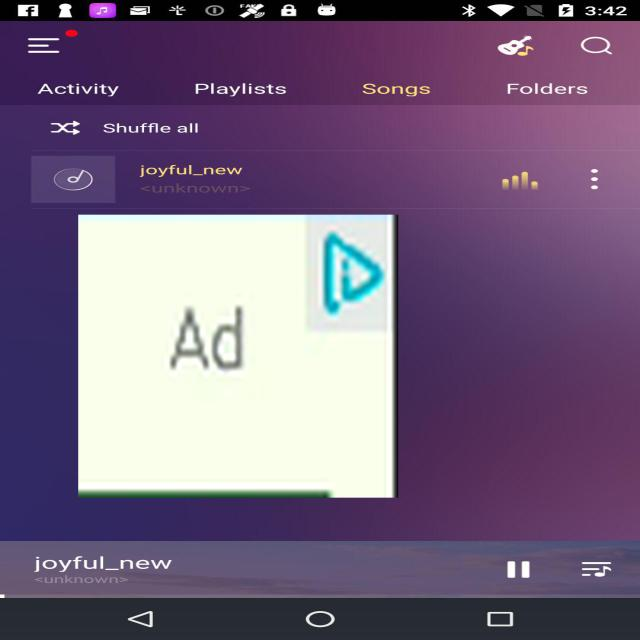sneaking: (78, 215, 398, 498)
